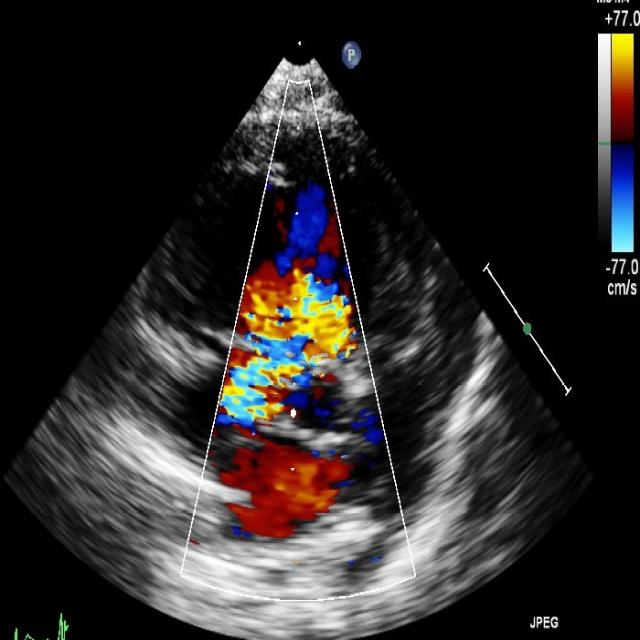VSDType2: (238, 274, 356, 406)
